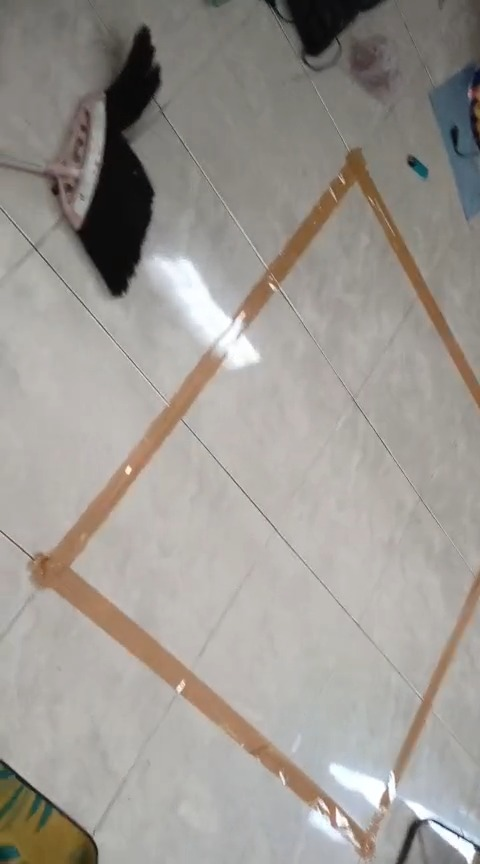floor marking: (33, 150, 479, 857)
